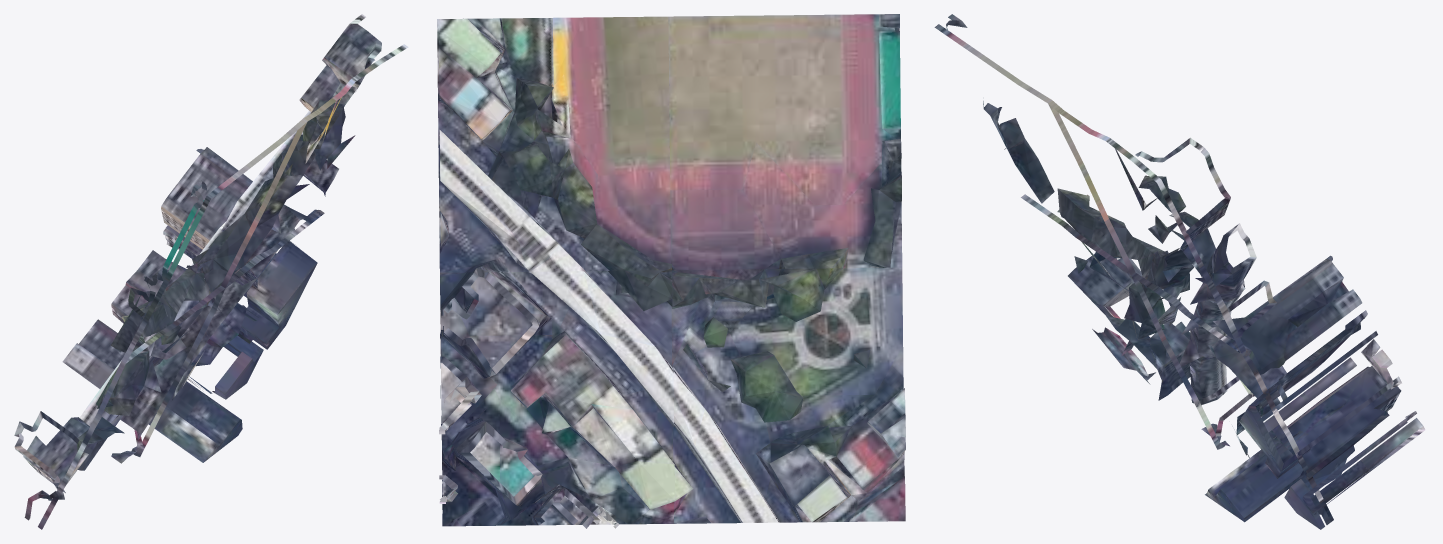
3 views of the same model, side by side, from view 1: azimuth 30°, elevation 25°; view 2: azimuth 150°, elevation 25°; view 3: azimuth 270°, elevation 25° (orthographic). The views are drawn at different scales.
Bounding box in the file's own units: 158 × 153 × 160.
1 material, 1 textured.
